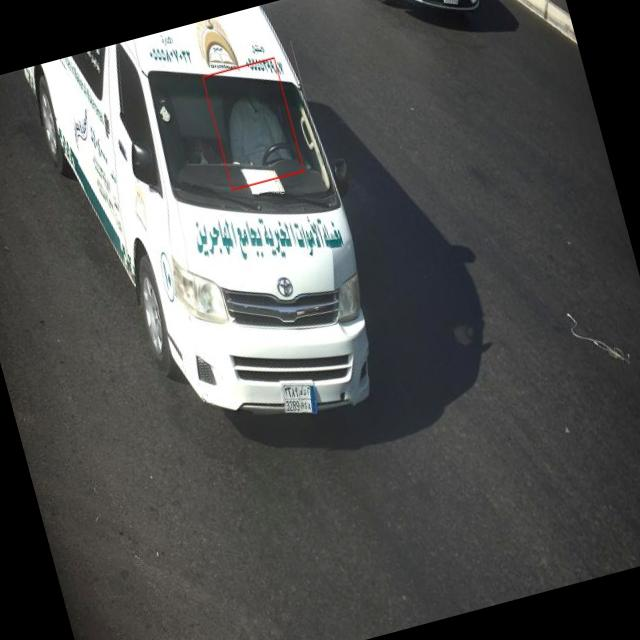person_without_seatbelt: (210, 65, 303, 186)
